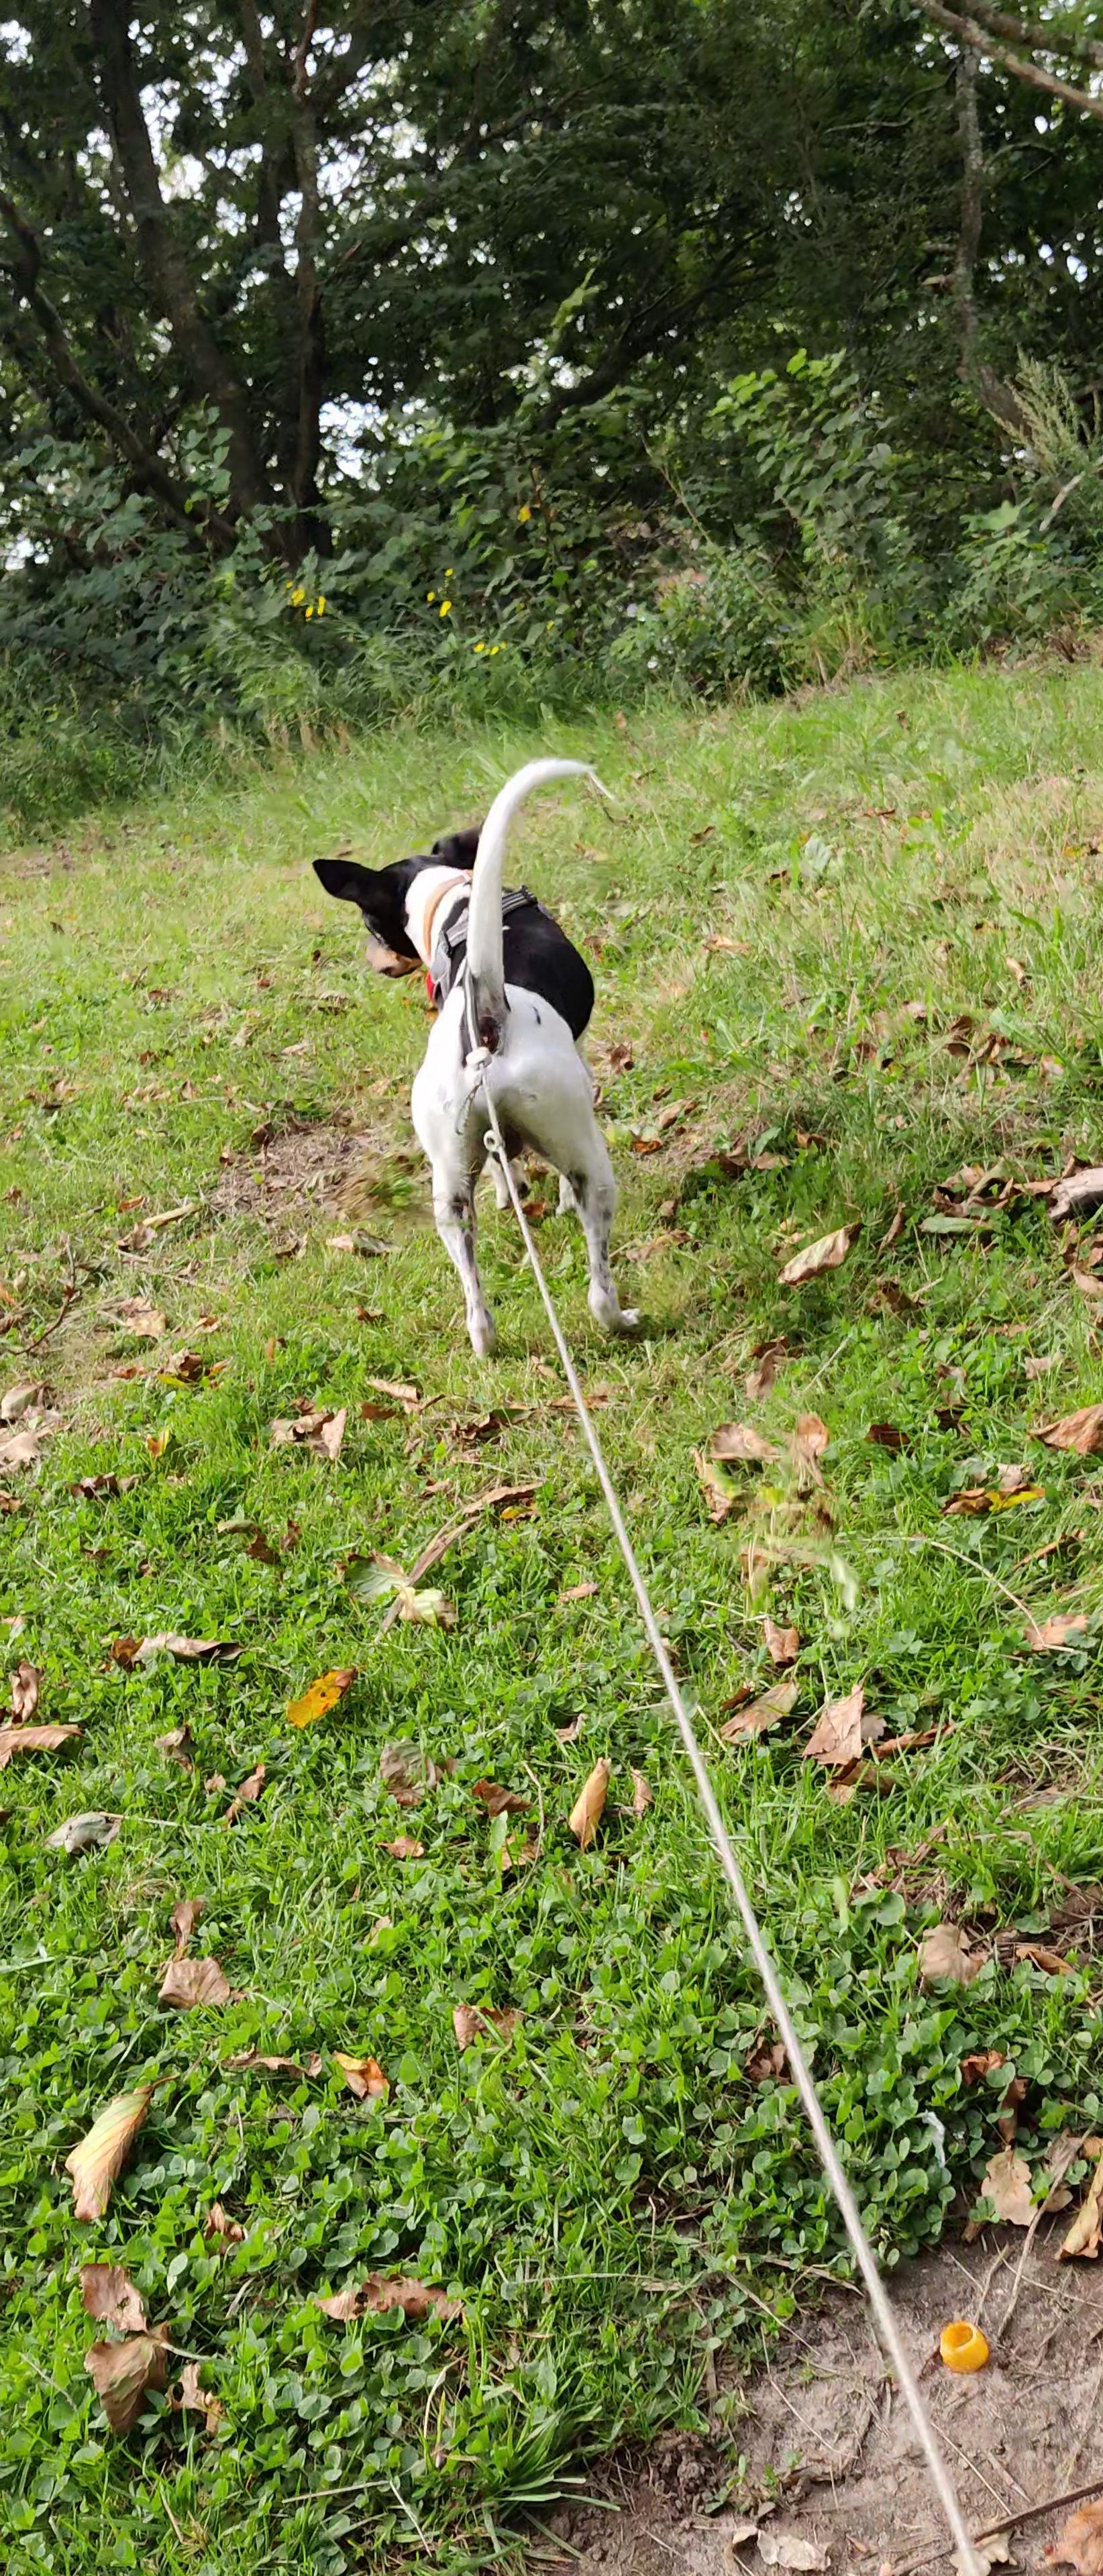Dog: (299, 754, 692, 1370)
